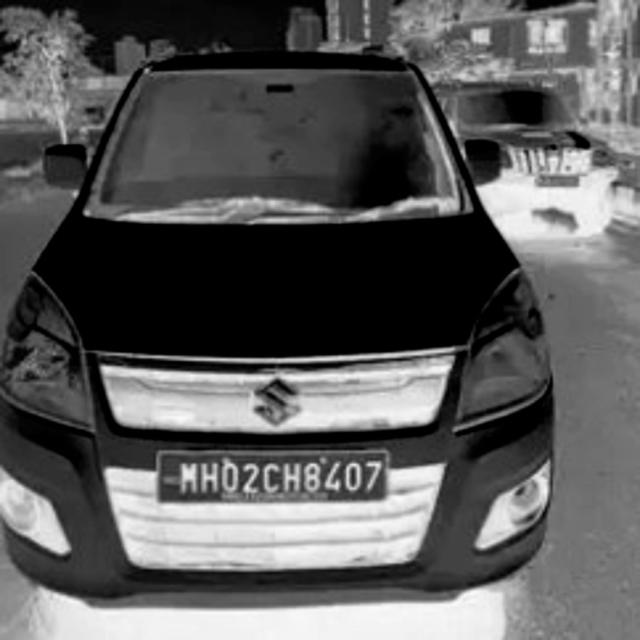0: (344, 459, 364, 495), (221, 461, 240, 496)
2: (242, 458, 263, 500)
4: (322, 457, 343, 495)
7: (366, 459, 384, 496)
8: (304, 462, 322, 495)
C: (262, 460, 282, 495)
H: (282, 458, 303, 501), (198, 458, 221, 494)
IND: (159, 455, 181, 490)
Indian_registered: (158, 450, 388, 502)
M: (181, 458, 200, 496)
